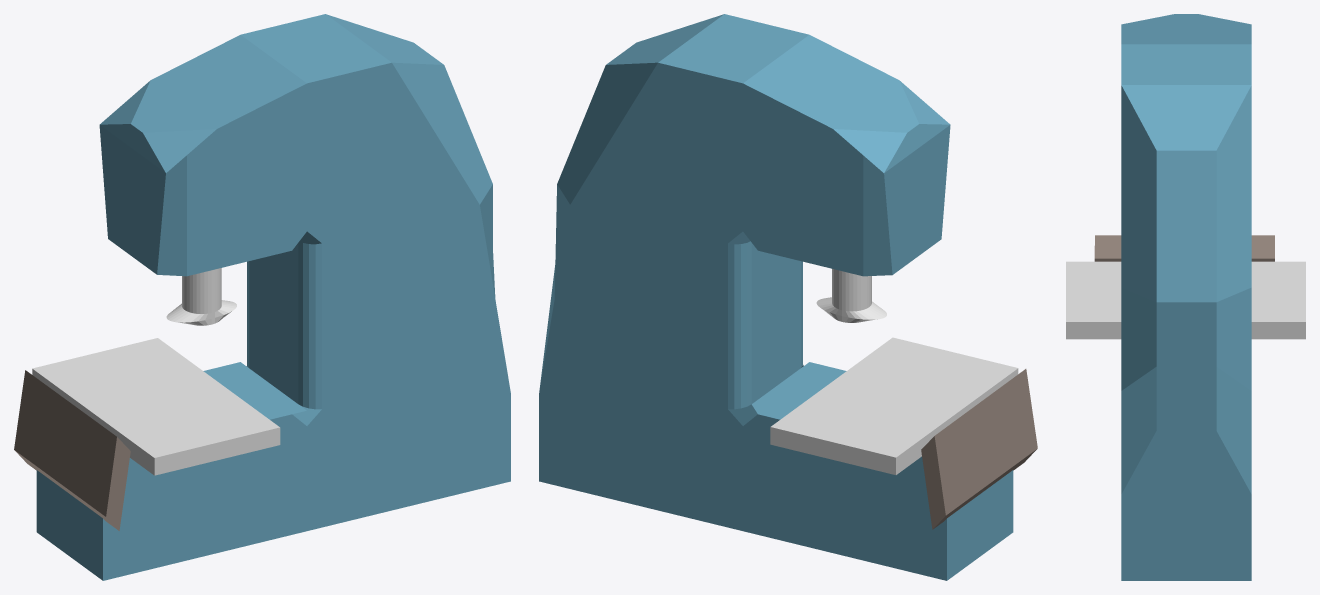
The model's file is FREZ+.fbx.
3 renders of one model, left to right at view 1: azimuth 30°, elevation 25°; view 2: azimuth 150°, elevation 25°; view 3: azimuth 270°, elevation 25°, orthographic.
Parts seen in each view (by area): view 1: Cube, Cube.002, Cube.001, Cylinder; view 2: Cube, Cube.002, Cube.001, Cylinder; view 3: Cube, Cube.002, Cube.001.
Boxes of the visible parts, x1,y1,x2,y2 form: Cube: [36, 14, 510, 580]; Cube.002: [32, 338, 280, 475]; Cube.001: [14, 370, 130, 530]; Cylinder: [166, 268, 236, 325]; Cube: [539, 14, 1013, 580]; Cube.002: [770, 337, 1018, 474]; Cube.001: [921, 369, 1037, 529]; Cylinder: [816, 269, 886, 322]; Cube: [1121, 14, 1251, 580]; Cube.002: [1066, 261, 1305, 339]; Cube.001: [1094, 235, 1274, 261].
Bounding box in the file's own units: 727 × 743 × 368.
